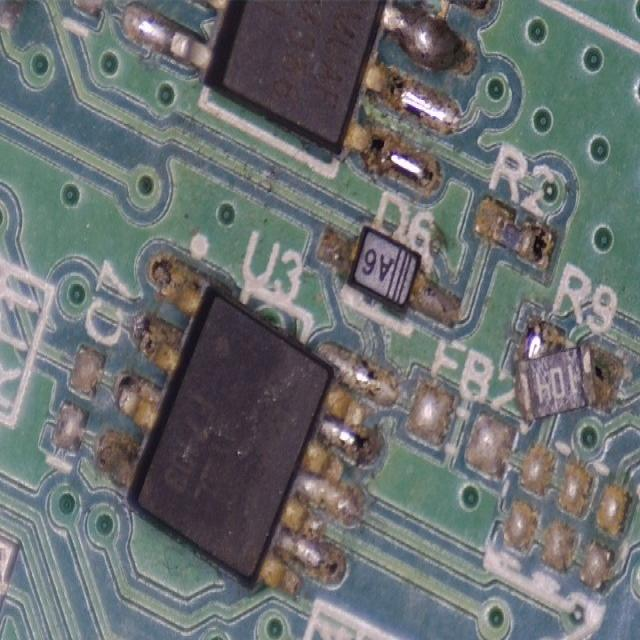Incorrect_installation: (98, 251, 401, 595), (509, 312, 622, 421)
